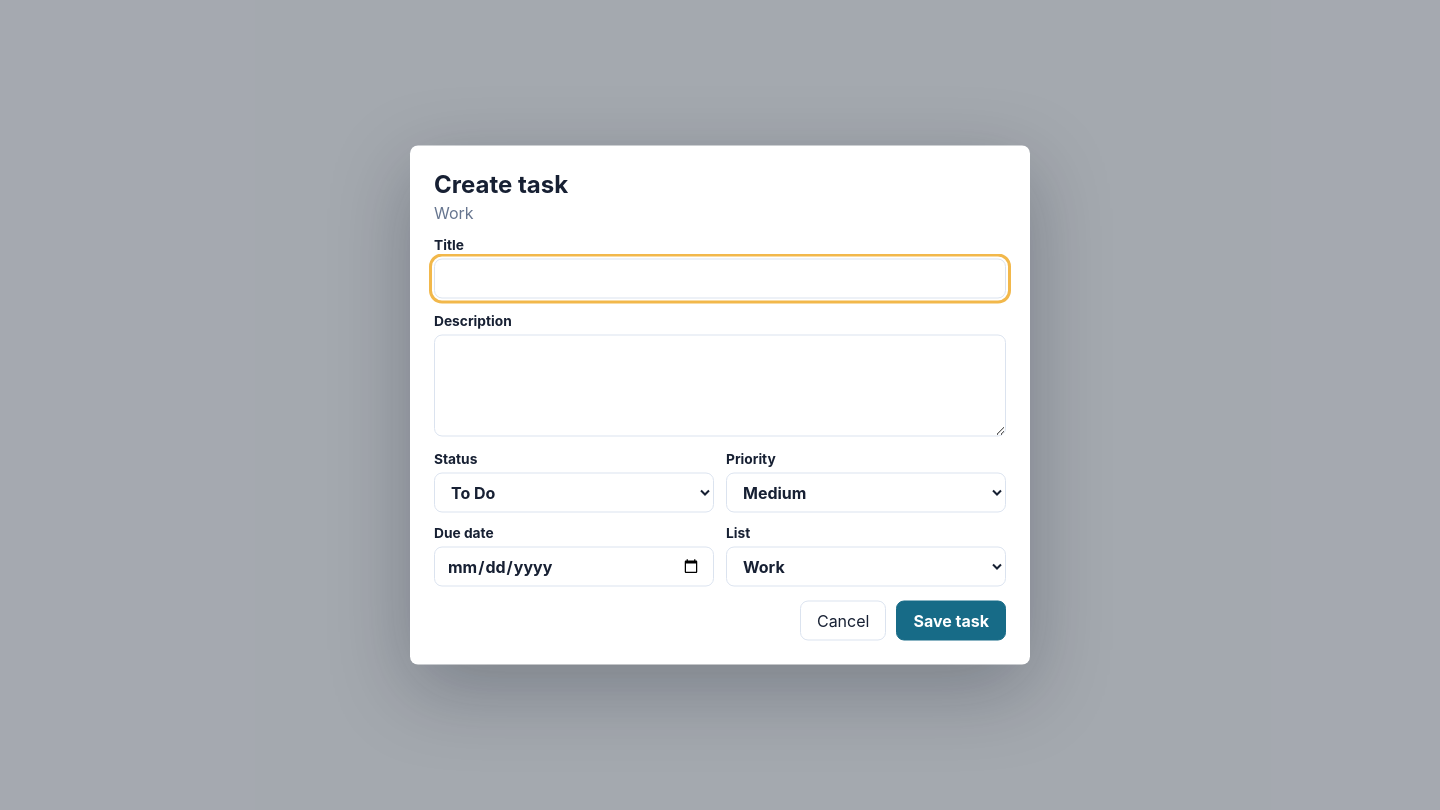
TaskForm › validates required title
Click the button "Save task".
click(951, 620)  # box 896,600 -> 1006,640
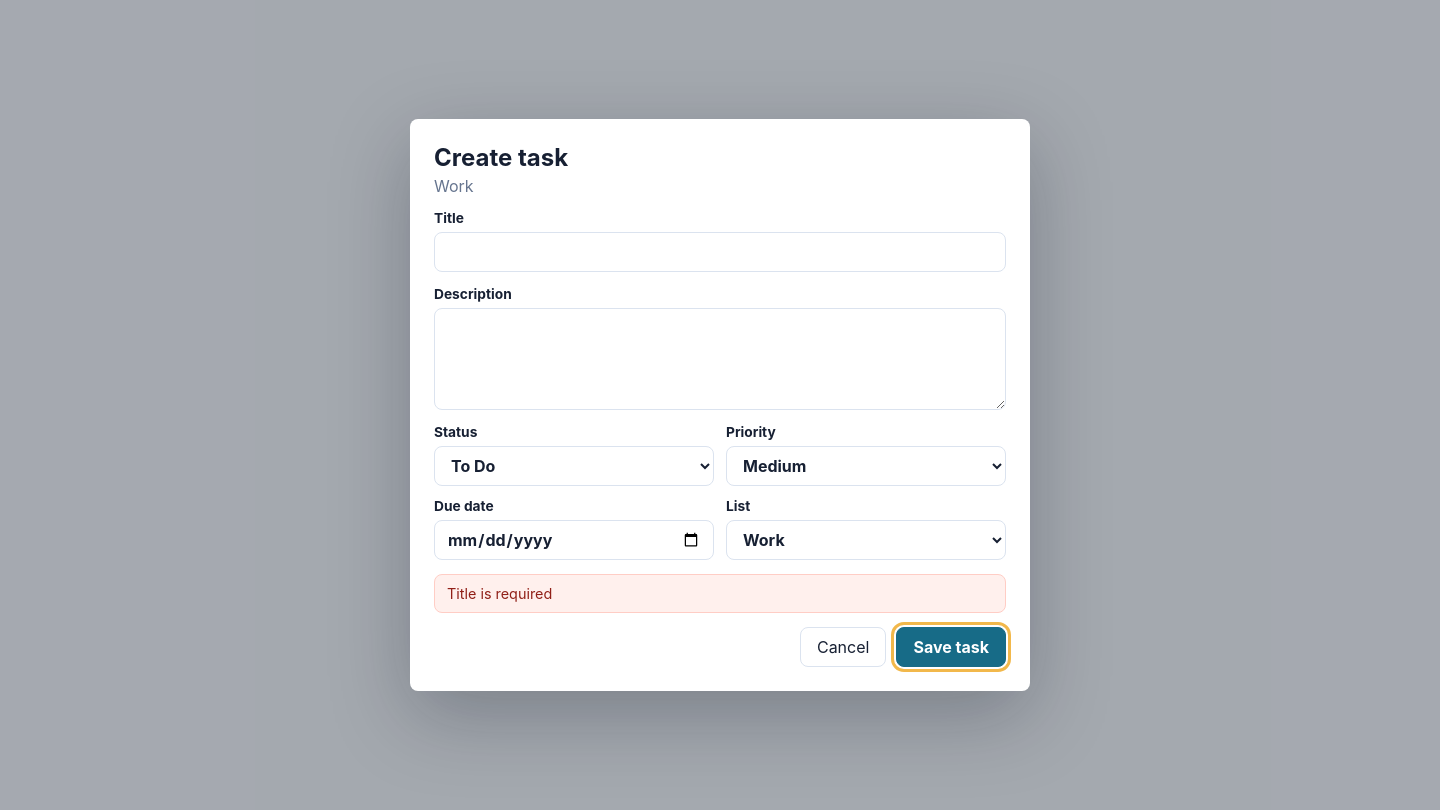
Expected: the text "Title is required" is shown, 434,574 -> 1006,613
